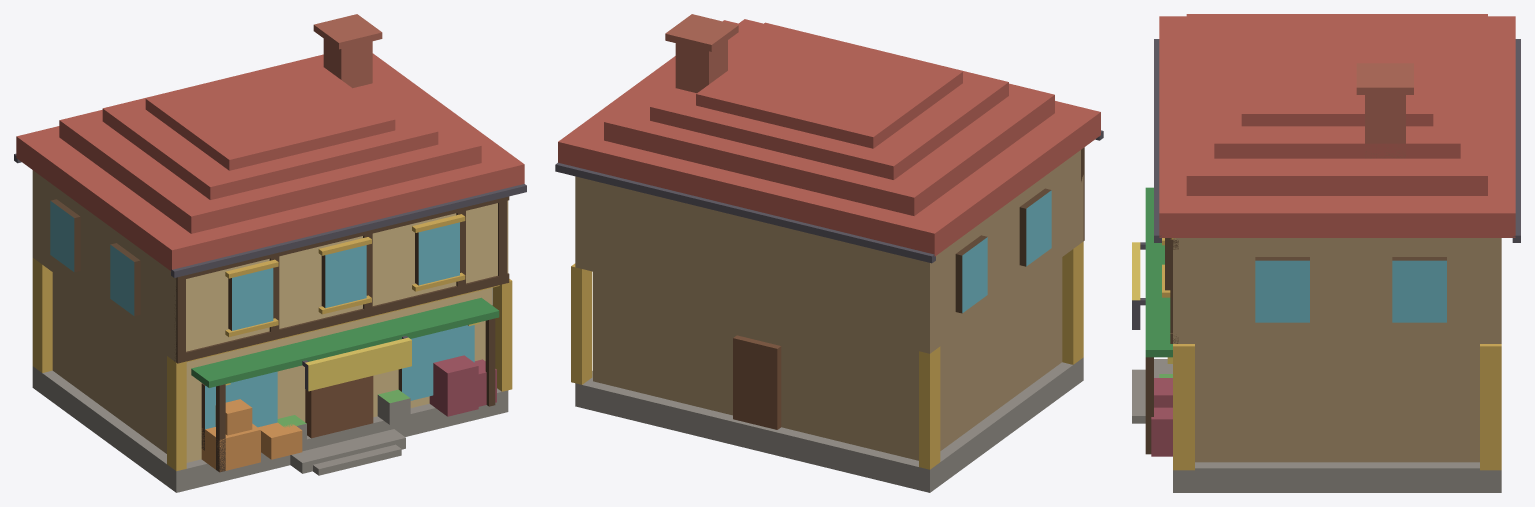
The model's file is TradeHouse.fbx.
The picture shows the model from 3 angles, left to right: view 1: azimuth 30°, elevation 25°; view 2: azimuth 150°, elevation 25°; view 3: azimuth 270°, elevation 25°; orthographic projection. The views are drawn at different scales.
Parts seen in each view (by area): view 1: TradeHouse; view 2: TradeHouse; view 3: TradeHouse.
Part boxes in pixels (x1,y1,x2,y2): TradeHouse: (14,14,526,492); TradeHouse: (555,14,1103,492); TradeHouse: (1132,14,1520,492).
Bounding box in the file's own units: 1700 × 1530 × 1420.
